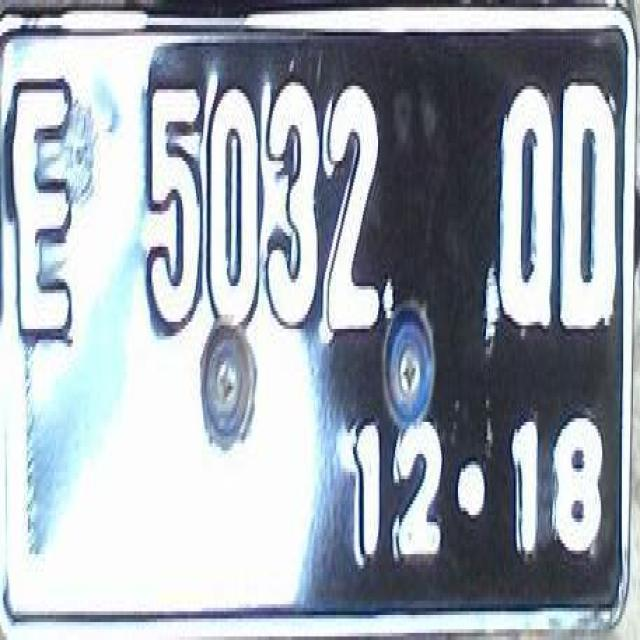0: (204, 73, 262, 334)
2: (322, 70, 384, 334)
3: (264, 75, 322, 336)
5: (142, 70, 204, 342)
D: (558, 77, 620, 345)
E: (9, 72, 76, 350)
Q: (496, 76, 558, 342)
